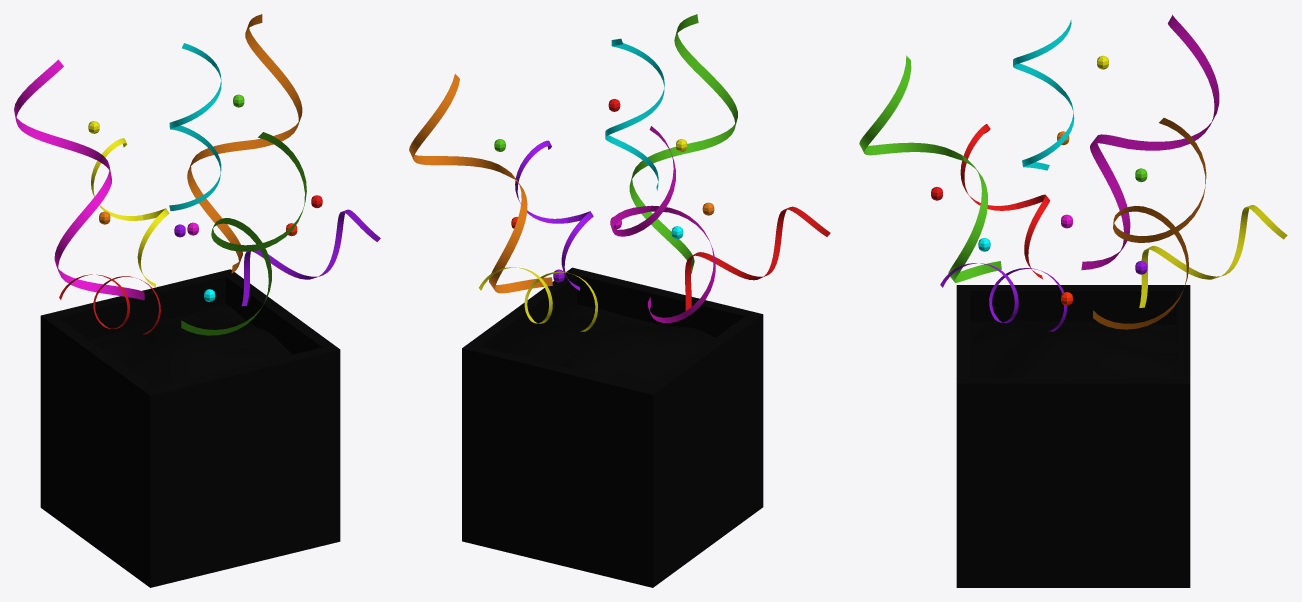
The model's file is blue_box.fbx.
3 views of the same model, side by side, from view 1: azimuth 30°, elevation 25°; view 2: azimuth 150°, elevation 25°; view 3: azimuth 270°, elevation 25° (orthographic). The views are drawn at different scales.
Visible parts, largest first — view 1: scatola_blu, Coriandoli; view 2: scatola_blu, Coriandoli; view 3: scatola_blu, Coriandoli.
Boxes of the visible parts, bbox=[...] form: scatola_blu: bbox=[40, 269, 340, 587]; Coriandoli: bbox=[14, 14, 380, 335]; scatola_blu: bbox=[462, 267, 763, 587]; Coriandoli: bbox=[409, 14, 830, 331]; scatola_blu: bbox=[956, 285, 1190, 587]; Coriandoli: bbox=[859, 14, 1287, 331].
Bounding box in the file's own units: 171 × 244 × 184.
2 materials, 1 textured.
